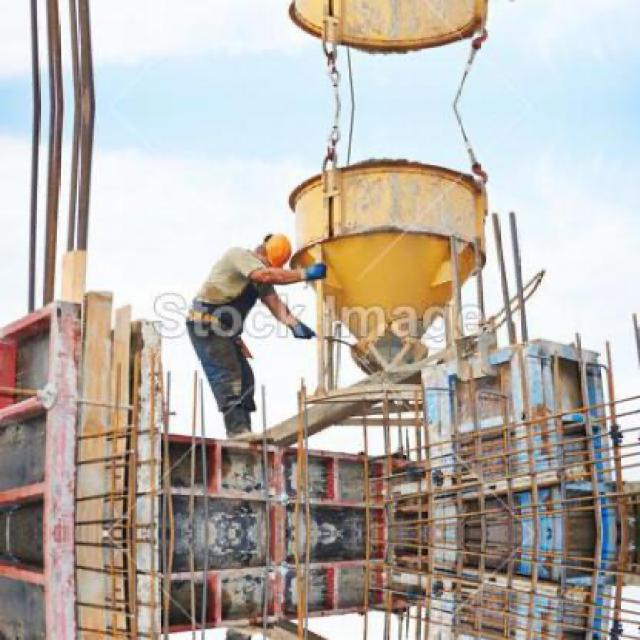helmet: (257, 230, 298, 273)
